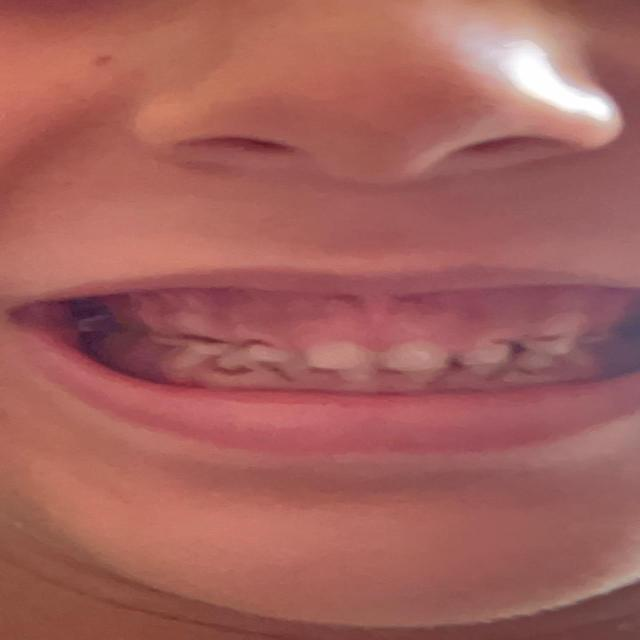tooth: (300, 347, 360, 363), (388, 351, 444, 365), (532, 342, 580, 358), (516, 363, 561, 379), (342, 372, 382, 386), (171, 358, 206, 373), (394, 375, 434, 387), (237, 346, 275, 358), (283, 368, 313, 382), (461, 368, 499, 379), (225, 363, 257, 375), (186, 342, 218, 352), (471, 349, 495, 361)
